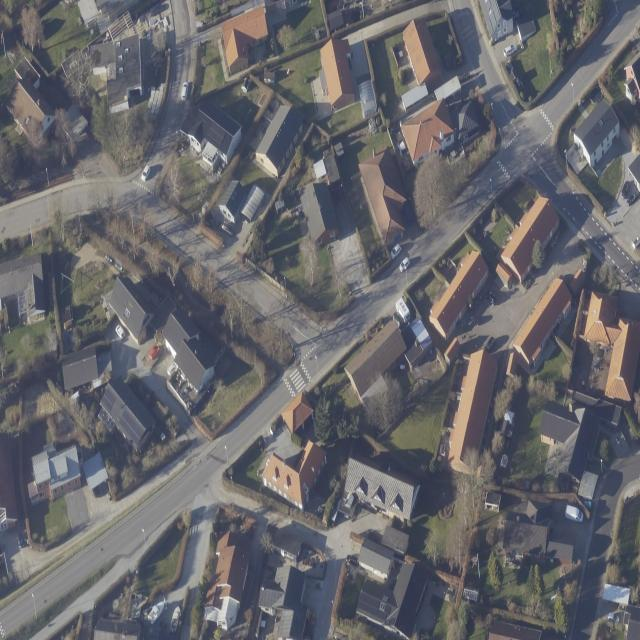car: (503, 43, 518, 58), (399, 256, 410, 274), (390, 244, 402, 260), (141, 164, 151, 183), (180, 80, 188, 102), (149, 344, 160, 360), (115, 324, 125, 340)
